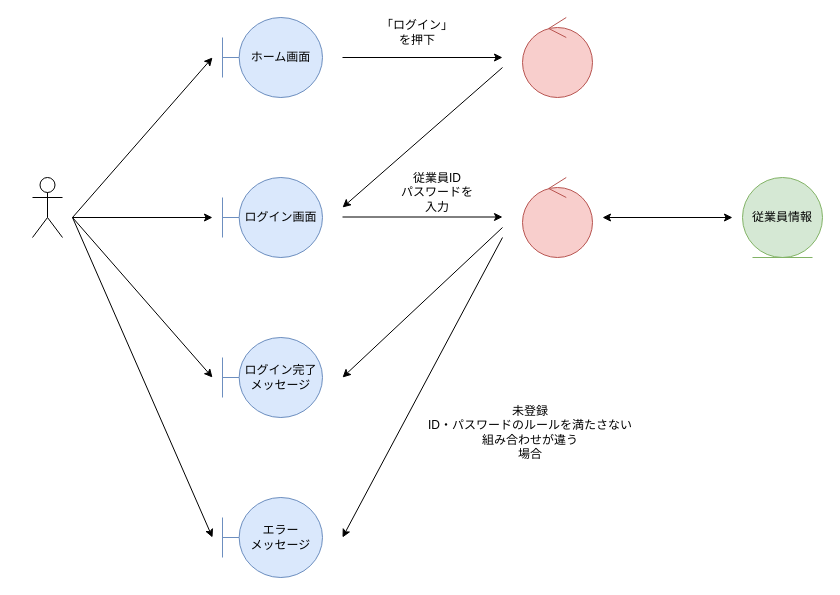
Image size: 840x595. Some labels were removed from this diagram. The centre of each missing label's shape, as x and y in pixels:
登録確認: [557,217]
管理者 正規社員 非正規社員: [47,207]
表示: [557,57]
